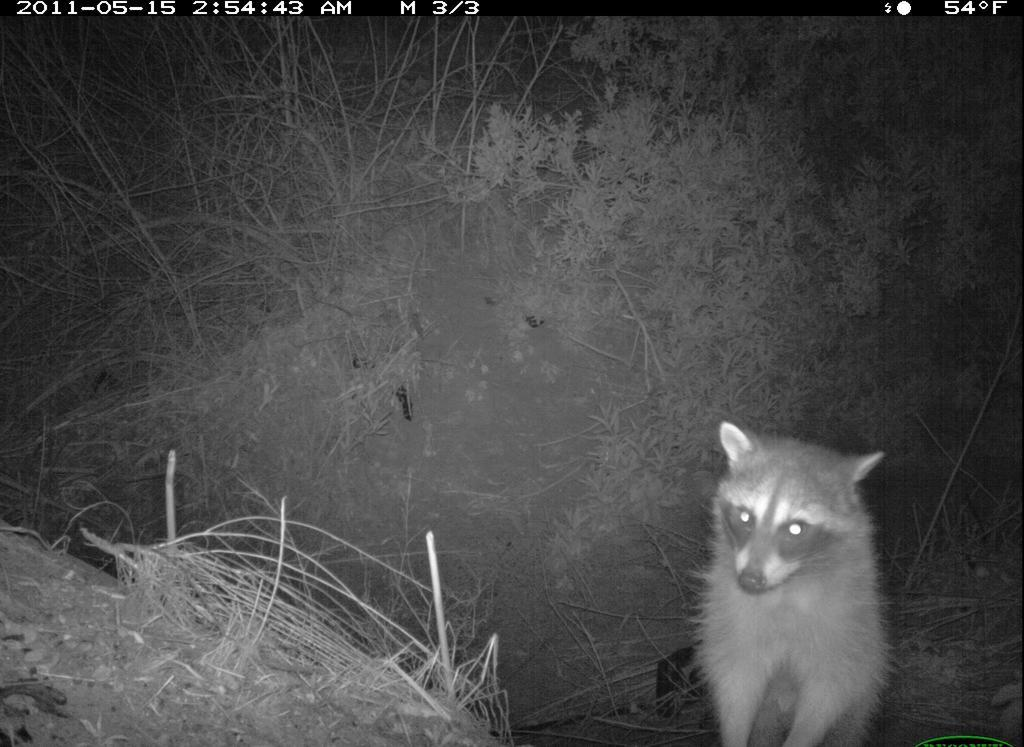raccoon: (693, 419, 899, 747)
